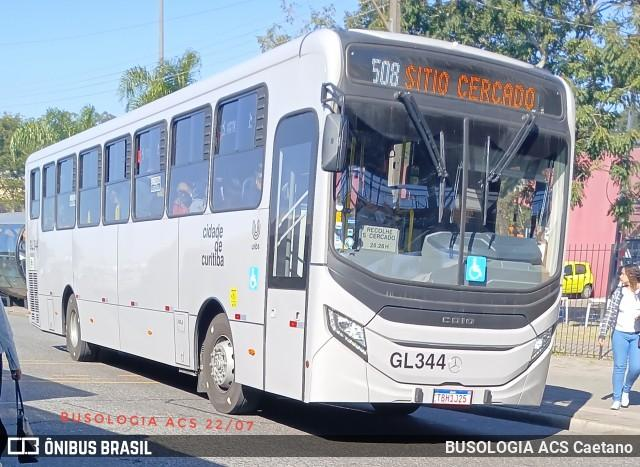SITIO CERCADO: (401, 61, 544, 116)
